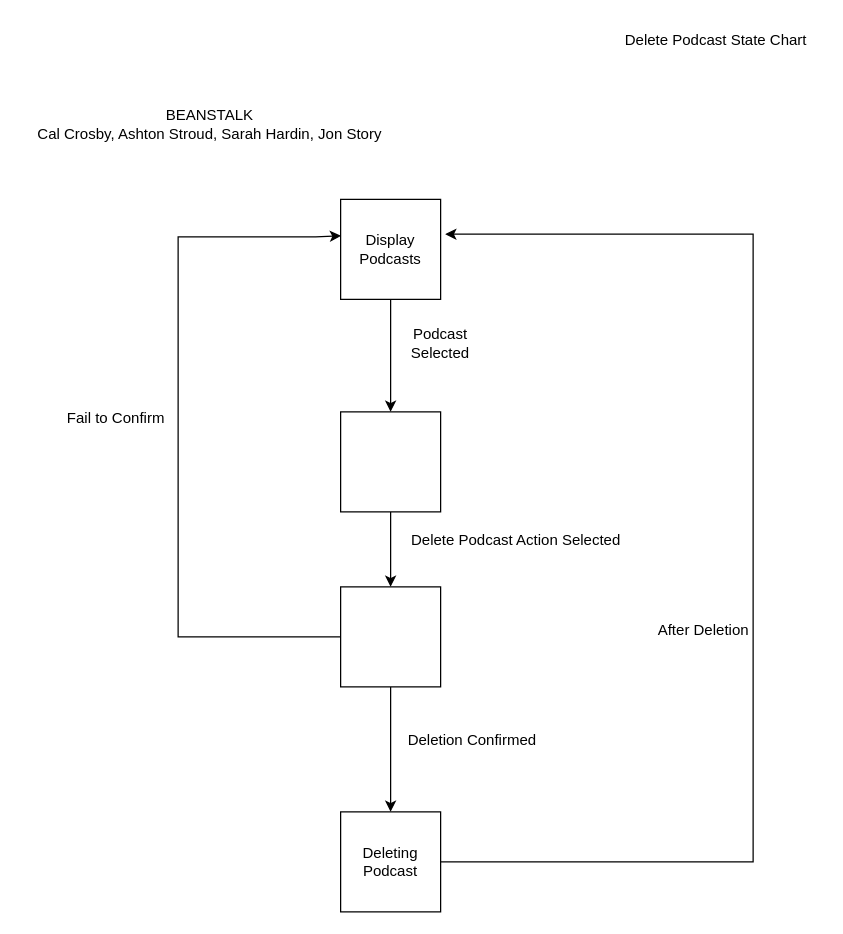
The diagram is 843 pixels wide and 934 high, and some of its shapes have lost their labels. The centre of each missing label's shape, as x and y in pixels:
Confirming Deletion: the point at 390,636
Display Podcast Actions: the point at 390,461
